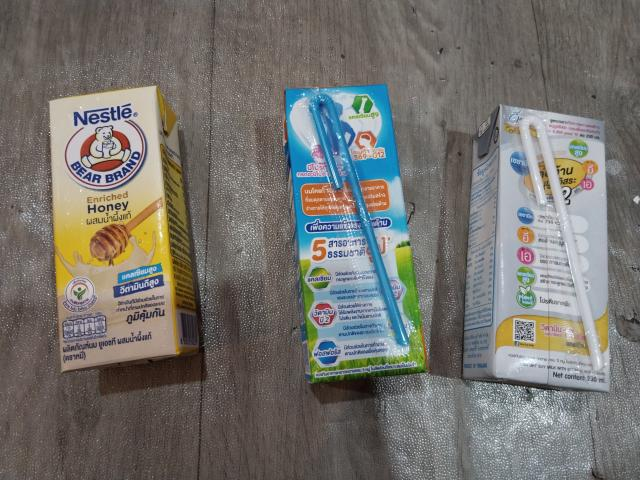drink_box: (281, 85, 429, 379), (46, 92, 196, 359), (469, 103, 609, 389)
